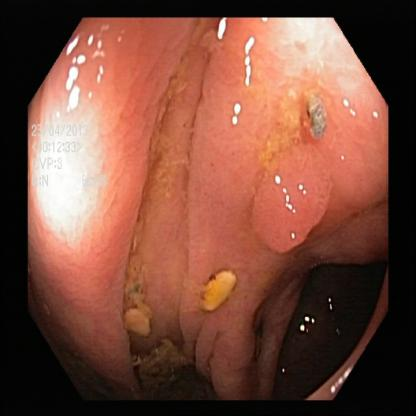Labels: (25, 122, 106, 195)
Polyps: (250, 130, 331, 247)
